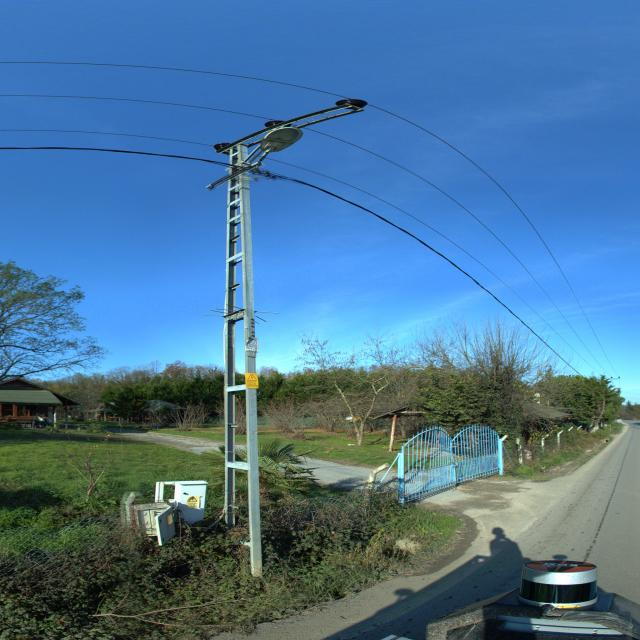Utility Pole Information Plate: (244, 372, 259, 389), (246, 336, 259, 352)
